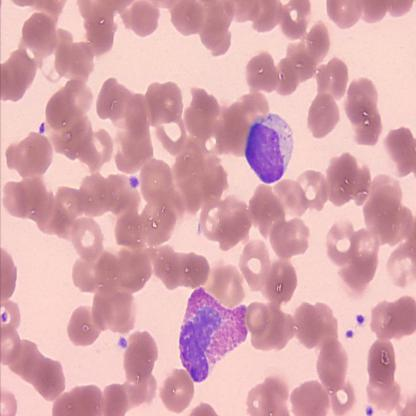Eosinophil: (177, 283, 248, 384)
